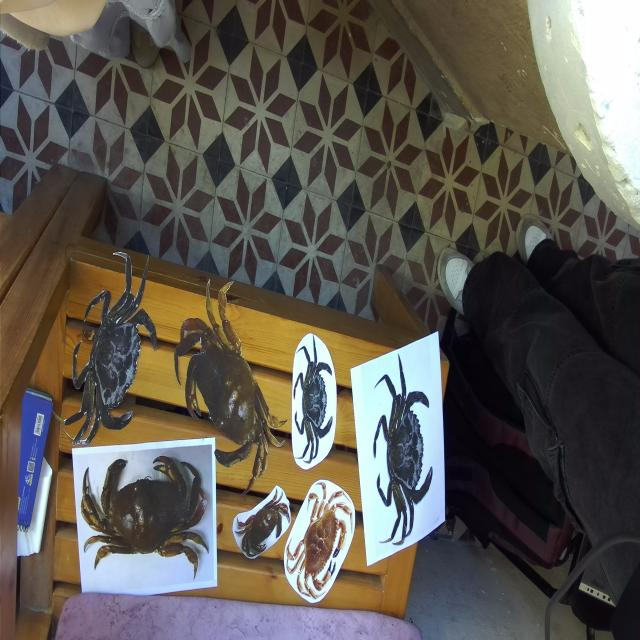European_Green_Crab: (48, 220, 178, 486), (367, 348, 438, 550), (293, 333, 333, 465)
